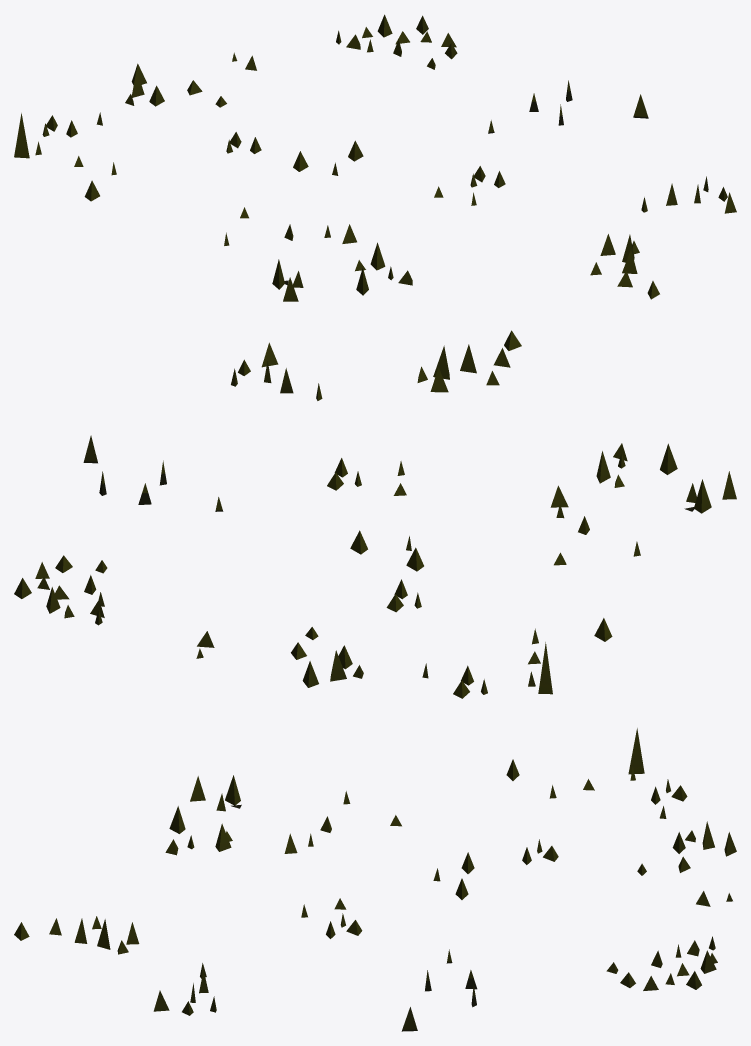
File: Plant_01.FBX
3 renders of one model, top to bottom at view 1: azimuth 30°, elevation 25°; view 2: azimuth 150°, elevation 25°; view 3: azimuth 270°, elevation 25°, orthographic. The views are drawn at different scales.
Parts seen in each view (by area): view 1: Plant_01; view 2: Plant_01; view 3: Plant_01.
Part boxes in pixels (<box>): Plant_01: <box>14,14,736,301</box>; Plant_01: <box>14,330,736,698</box>; Plant_01: <box>14,728,736,1031</box>.
Bounding box in the file's own units: 15.27 × 1.32 × 17.99.
